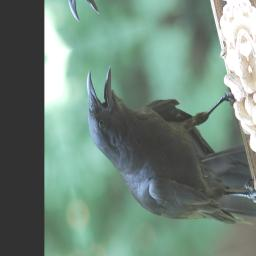Crow: (77, 25, 256, 256)
